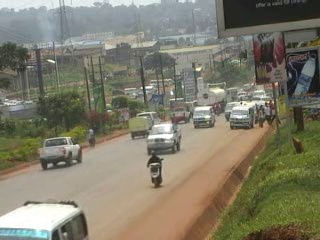Motorcycle: (144, 147, 167, 188), (212, 98, 222, 116)
